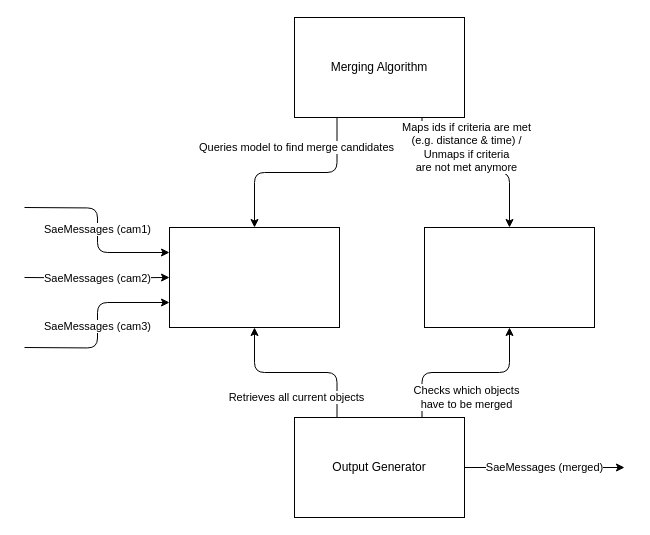
The diagram is 650 pixels wide and 535 high, and some of its shapes have lost their labels. The shapes that lost their labels are listed below. From the top down, each one's centre as x and y in pixels, then its label:
the point at 254,277: Camera Area Model (keeps track of all observed objects per camera)
the point at 509,277: Mapper (keeps track of mapped ids)
